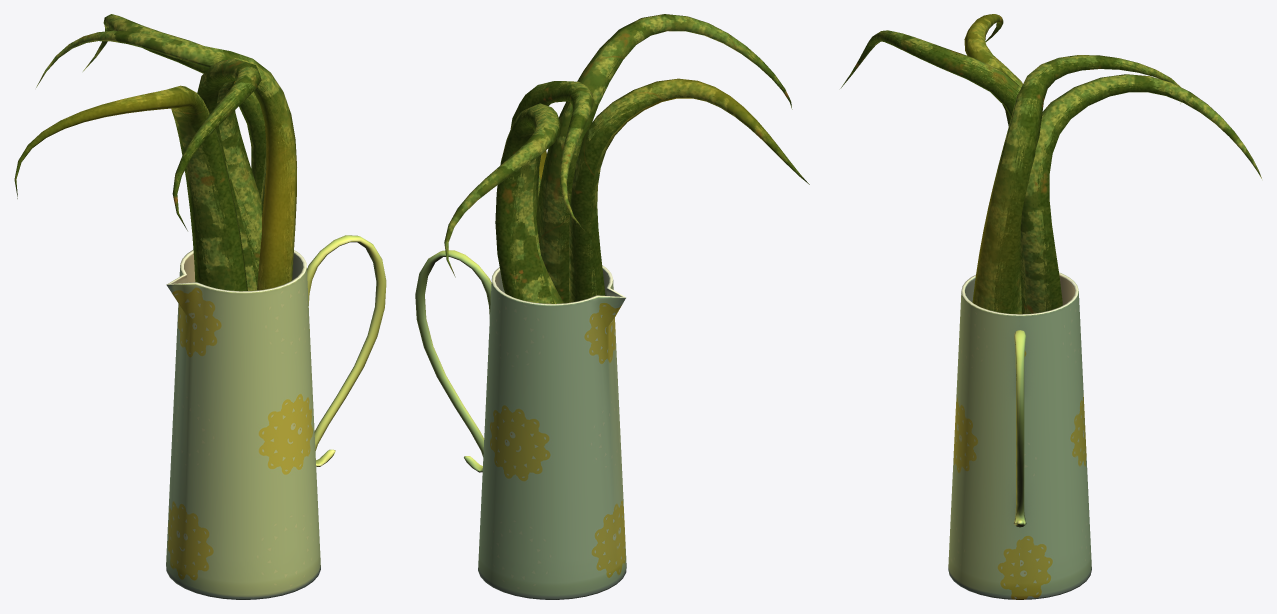
3 renders of one model, left to right at view 1: azimuth 30°, elevation 25°; view 2: azimuth 150°, elevation 25°; view 3: azimuth 270°, elevation 25°, orthographic. The views are drawn at different scales.
Parts seen in each view (by area): view 1: BezierCurve, plant; view 2: BezierCurve, plant; view 3: BezierCurve, plant.
Boxes of the visible parts, <box> form: BezierCurve: <box>166,235,386,599</box>; plant: <box>14,14,296,291</box>; BezierCurve: <box>415,250,626,599</box>; plant: <box>444,14,809,303</box>; BezierCurve: <box>948,272,1091,599</box>; plant: <box>840,14,1261,314</box>.
Size of the model in its own units: 22.9 by 30.72 by 23.25.
Materials: 2 (2 with a texture image).
